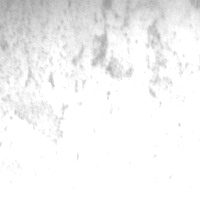pitted_surface: (43, 29, 134, 180), (144, 19, 199, 197)
